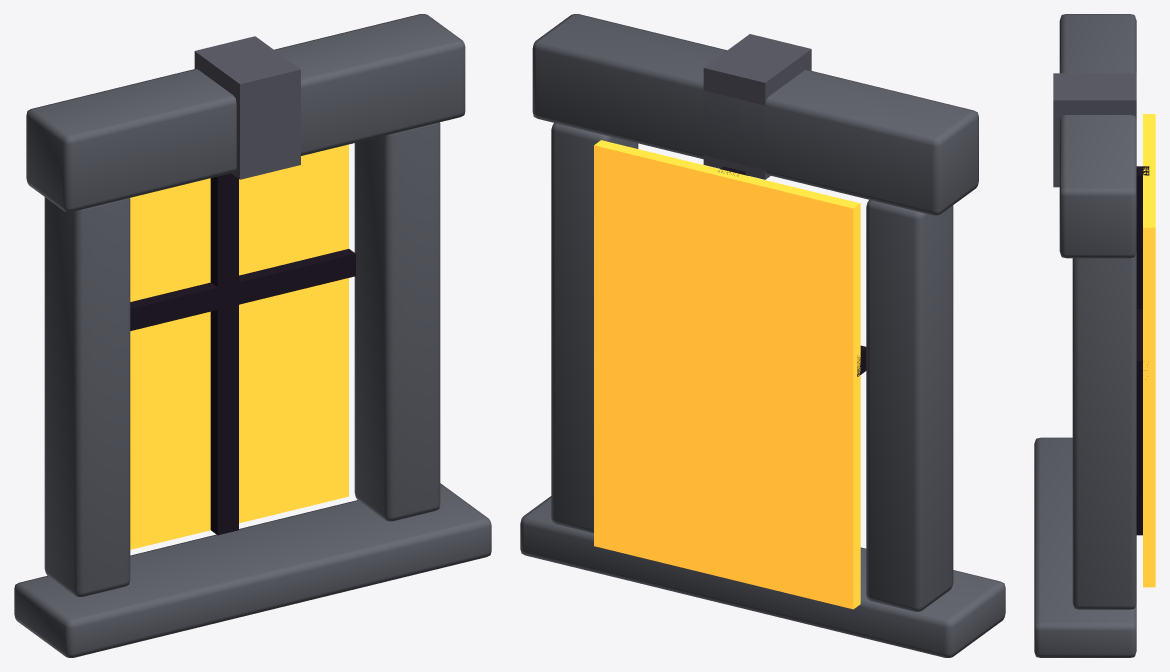
The model's file is kit_stone_window_lit.glb.
The picture shows the model from 3 angles, left to right: view 1: azimuth 30°, elevation 25°; view 2: azimuth 150°, elevation 25°; view 3: azimuth 270°, elevation 25°; orthographic projection. The views are drawn at different scales.
Visible parts, largest first — view 1: kit_stone_window_lit; view 2: kit_stone_window_lit; view 3: kit_stone_window_lit.
Boxes of the visible parts, box(x1,y1,x2,y2) form: kit_stone_window_lit: box(14, 14, 491, 657); kit_stone_window_lit: box(520, 14, 1005, 657); kit_stone_window_lit: box(1034, 14, 1155, 657).
Bounding box in the file's own units: 0.7 × 0.825 × 0.19.
